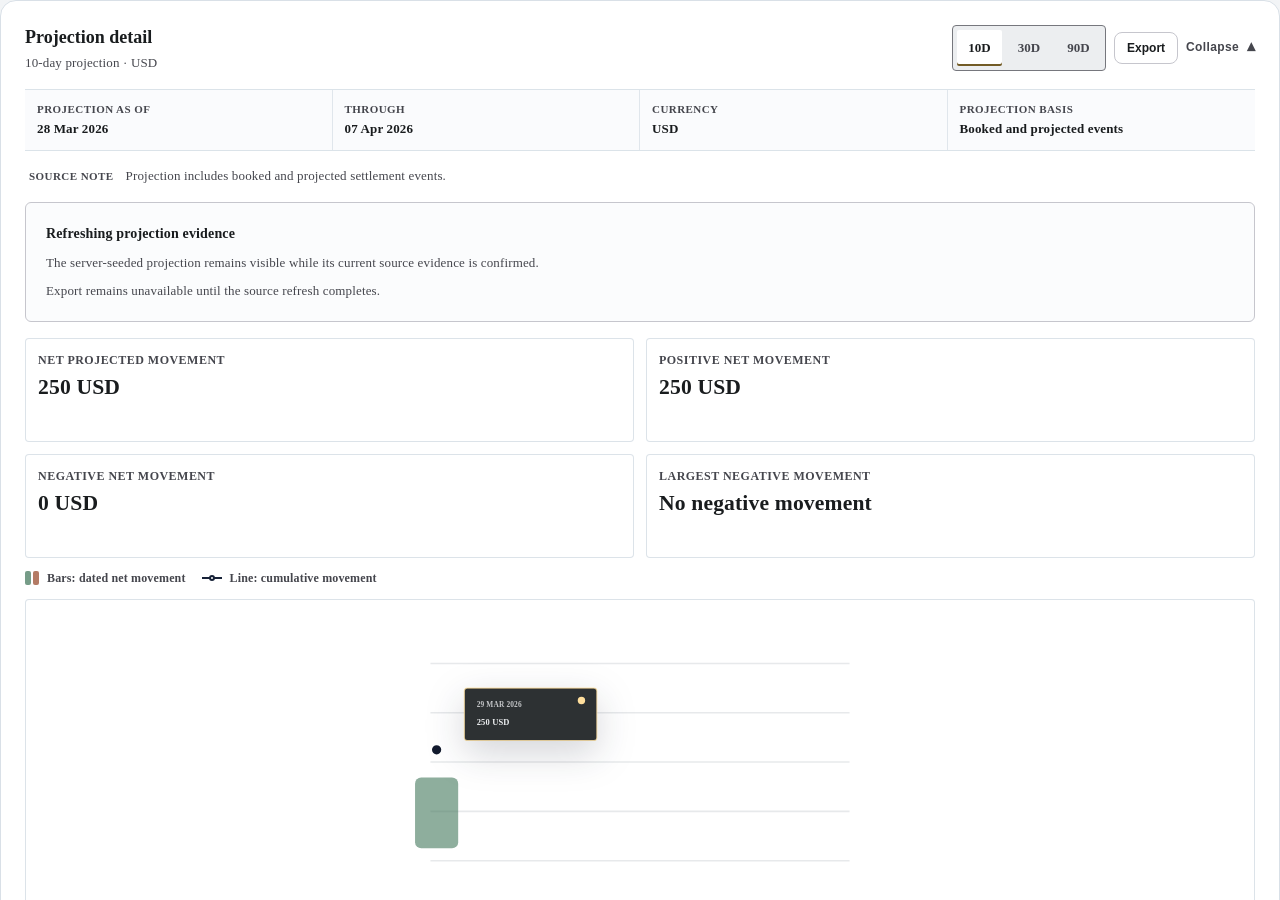
Test: PortfolioProjectedCashflowModule › clears a superseded seed refresh when returning to a cached horizon
Click the radio button labelled "30D" at (1029, 48), box [1006,30,1052,66]
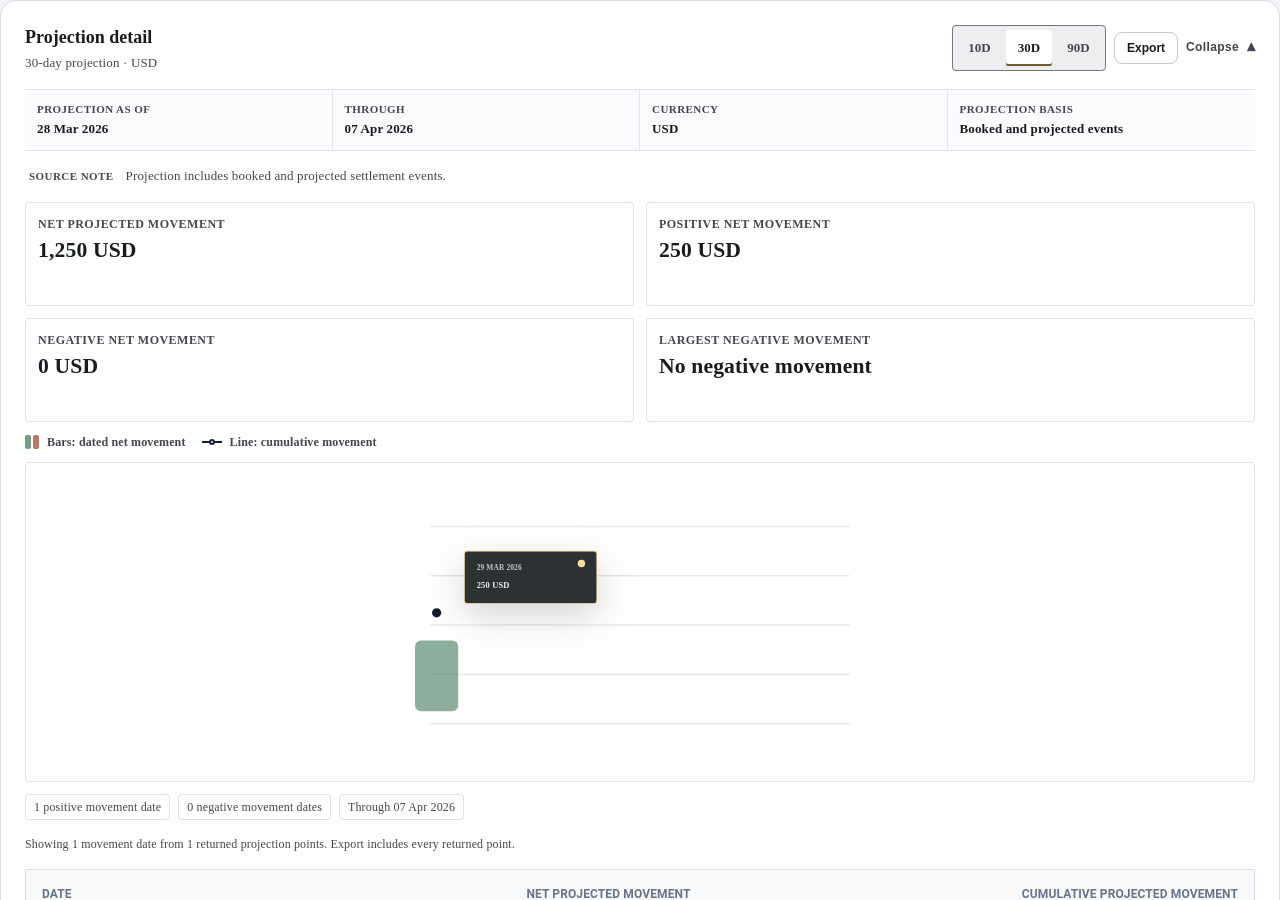
Result: the text "30-day projection · USD" is shown at [25,53,157,73]
Click the radio button labelled "10D" at (980, 48), box [957,30,1002,66]
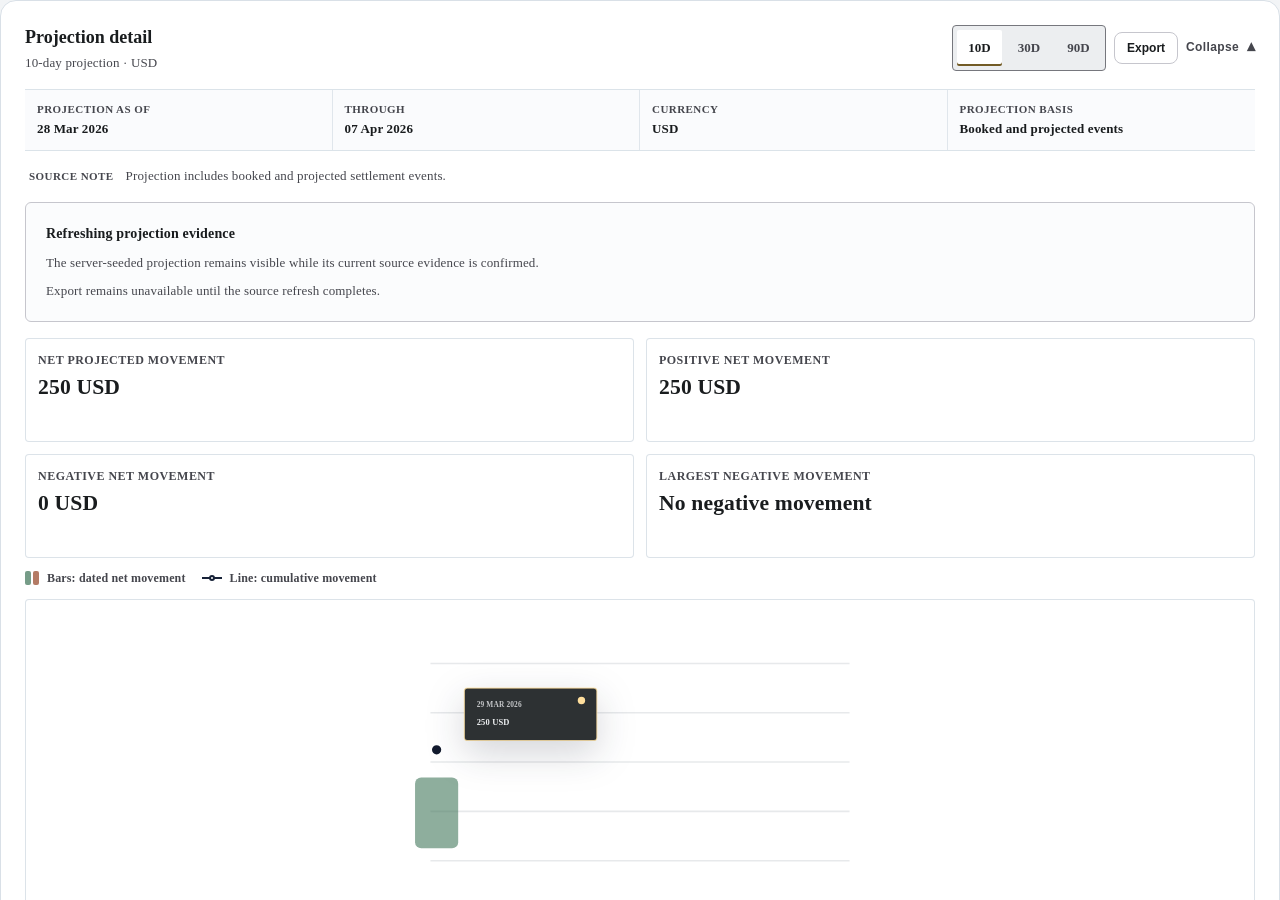
Result: the heading "Refreshing projection evidence" is shown at [46,223,235,245]
Click the radio button labelled "30D" at (1029, 48), box [1006,30,1052,66]
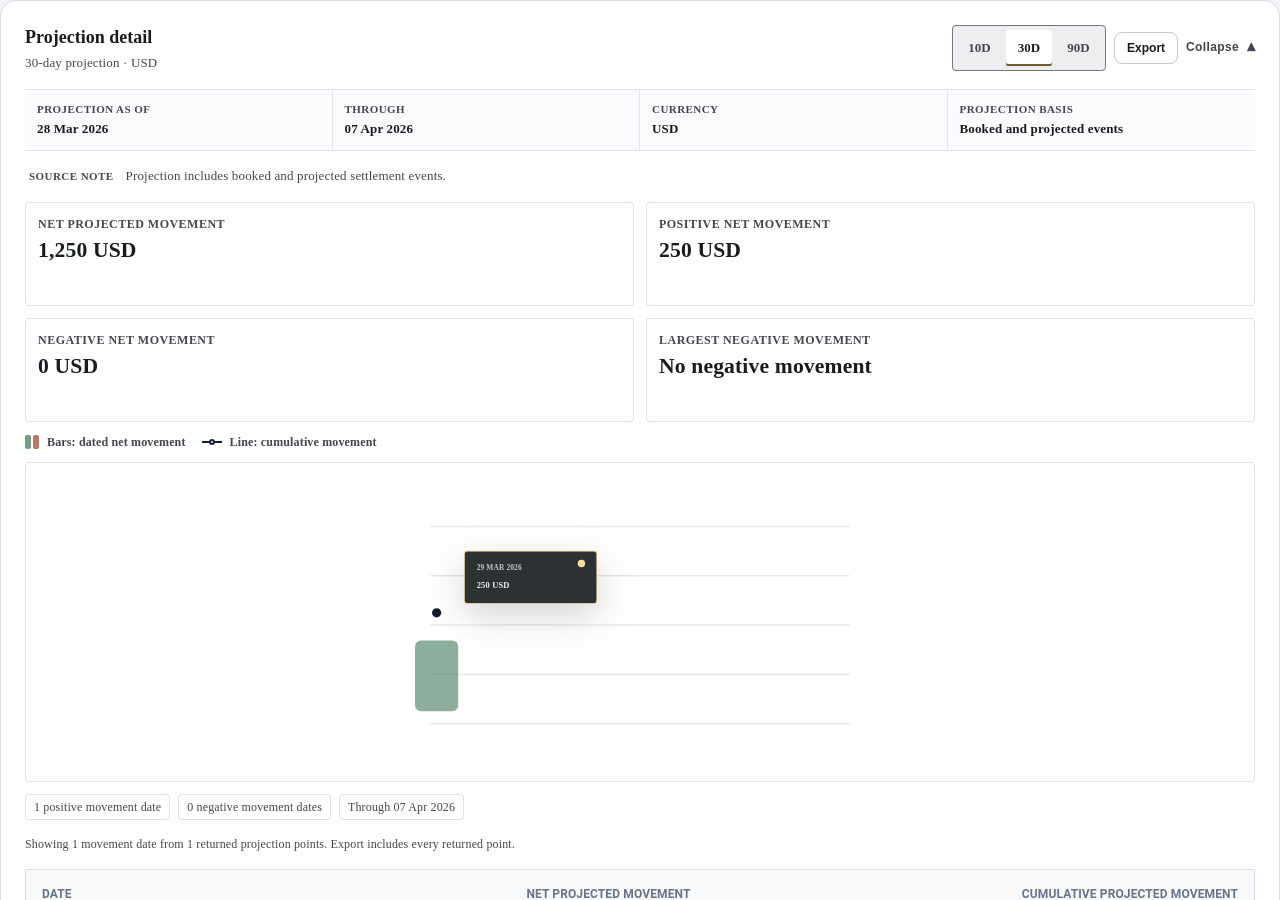
Expected: the button "Export" is enabled, [1114,32,1178,64]
Result: the heading "Refreshing projection evidence" is gone
Result: the text "30-day projection · USD" is shown at [25,53,157,73]
